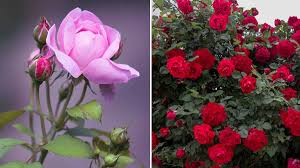lale: (47, 6, 141, 119), (16, 47, 61, 95), (244, 117, 270, 164), (23, 18, 61, 50), (186, 116, 217, 153), (163, 48, 193, 83), (198, 96, 228, 130), (181, 55, 206, 88), (276, 106, 300, 138), (206, 10, 232, 36), (211, 144, 239, 168), (219, 123, 245, 147), (216, 54, 239, 79), (274, 40, 297, 64), (236, 75, 260, 97), (252, 45, 271, 65)
